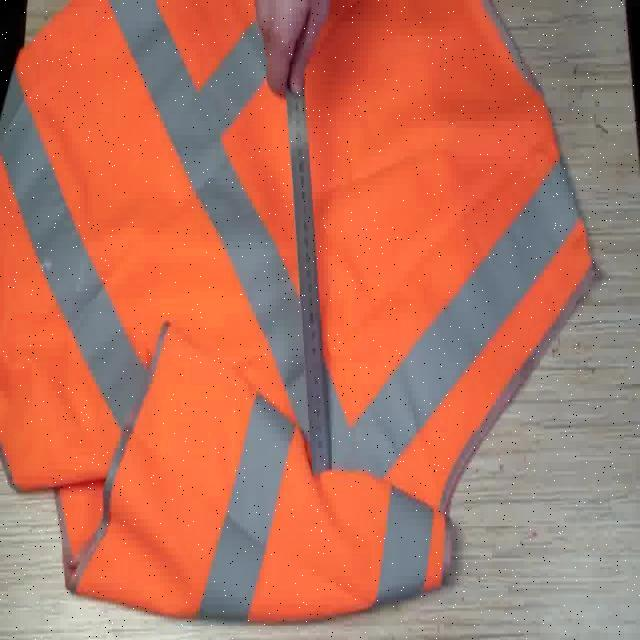Vest: (182, 6, 582, 633)
